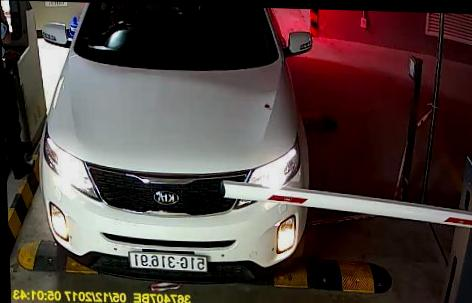License_Plate: (126, 248, 212, 272)
